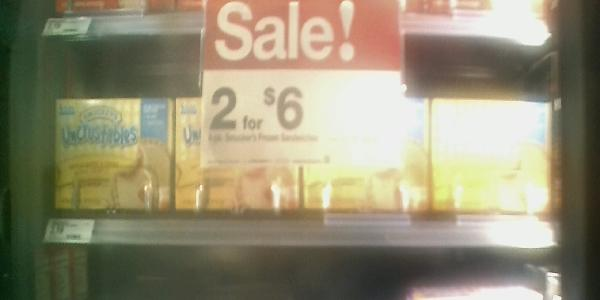icecream: (174, 96, 307, 219), (429, 95, 555, 218), (51, 99, 177, 220), (307, 93, 430, 213)
